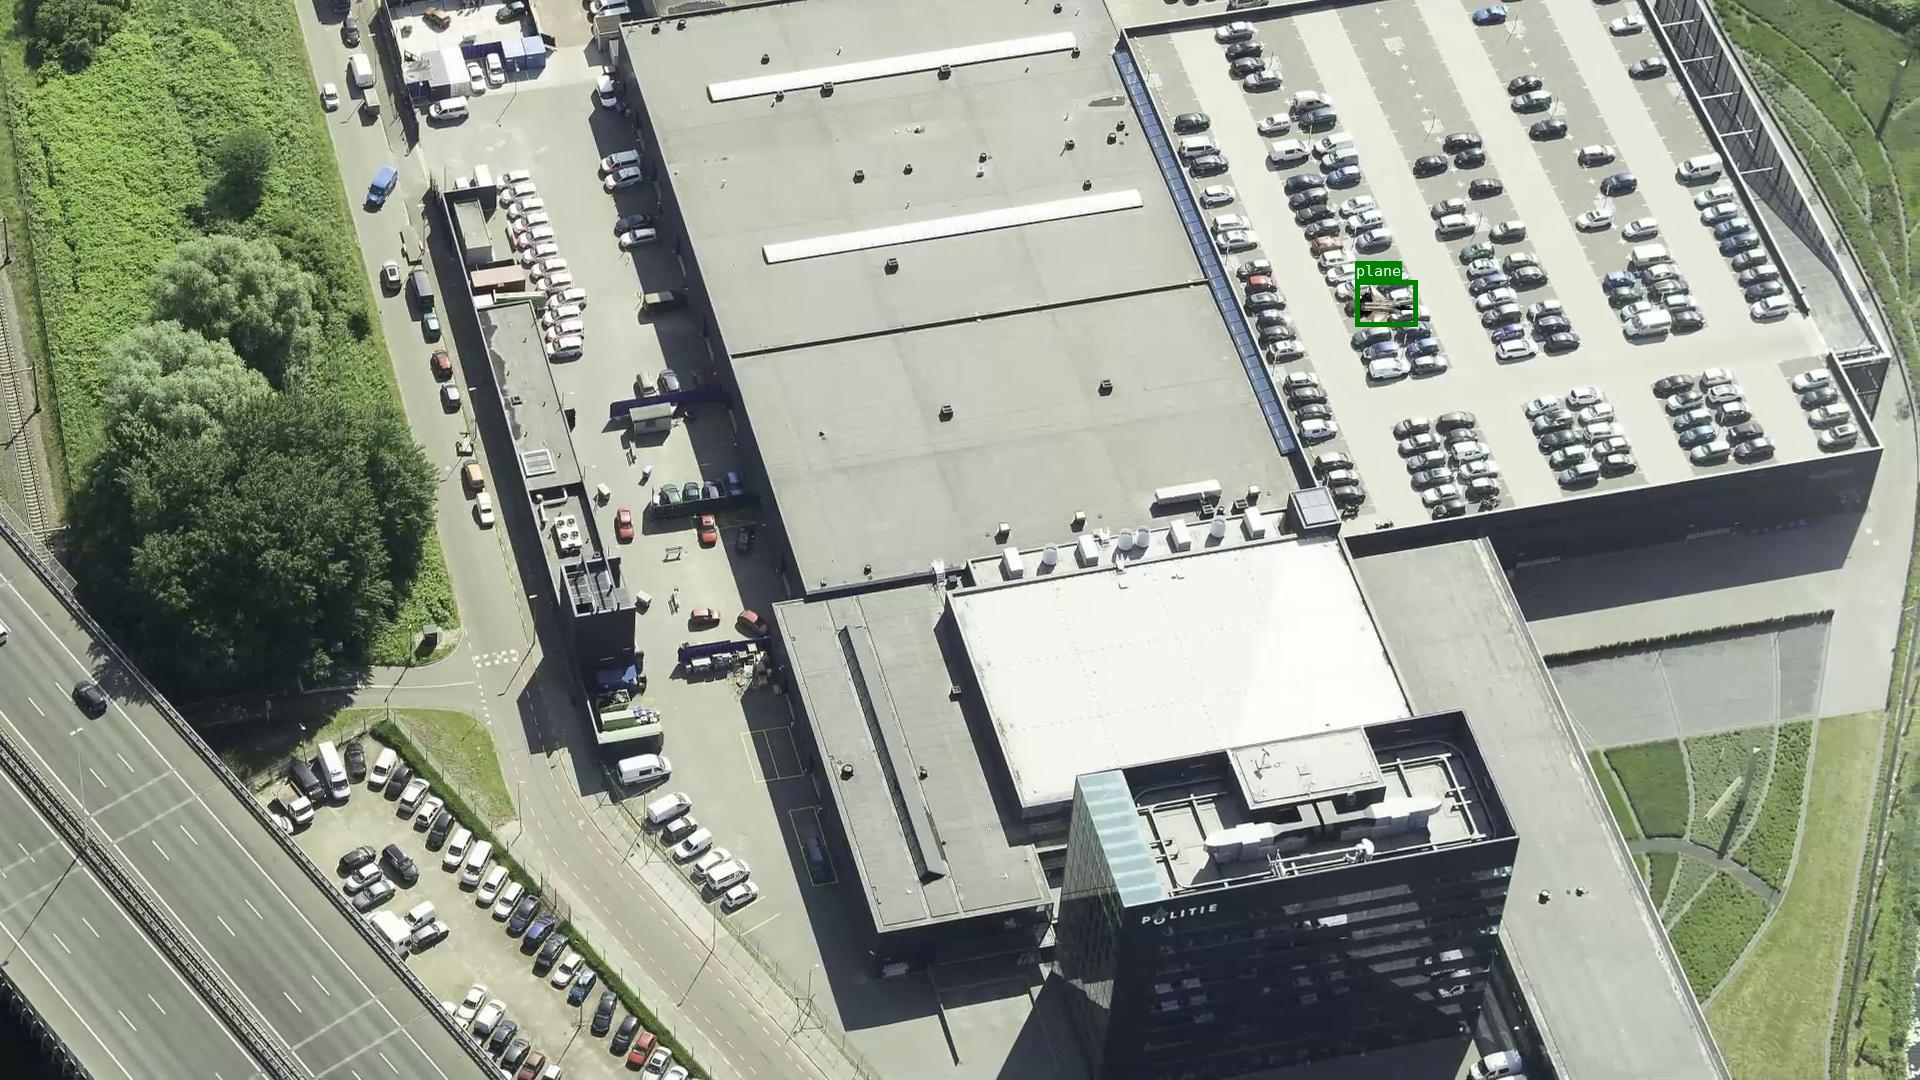plane: (1356, 280, 1418, 326)
